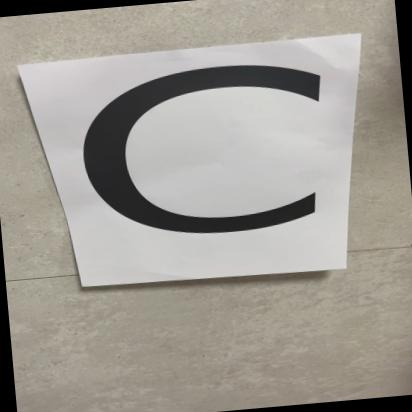seat: (19, 28, 364, 293)
